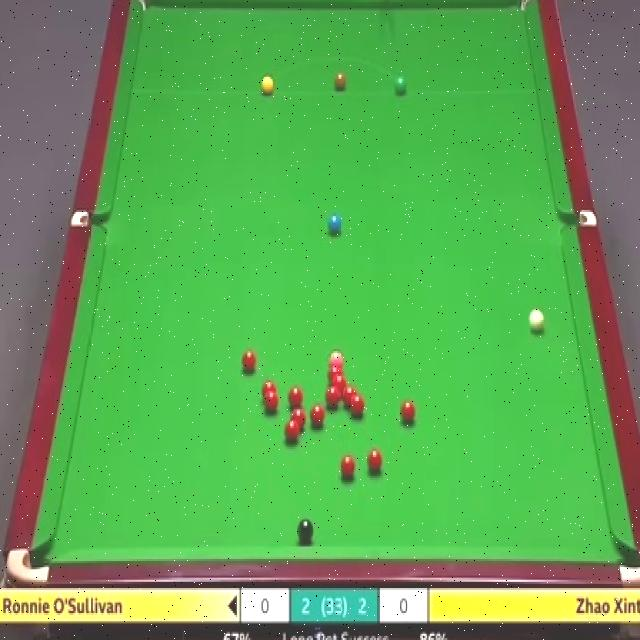black-ball: (296, 516, 314, 540)
blue-ball: (327, 215, 342, 233)
brown-ball: (335, 72, 346, 91)
green-ball: (393, 73, 408, 96)
pink-ball: (328, 351, 346, 366)
red-ball: (399, 396, 416, 424), (241, 349, 256, 374), (348, 393, 365, 415), (286, 417, 302, 440), (311, 402, 326, 426), (341, 456, 355, 481), (325, 386, 340, 409), (368, 452, 383, 474), (288, 386, 304, 406), (330, 374, 346, 393), (266, 390, 279, 413), (342, 382, 356, 403), (292, 410, 306, 430), (261, 379, 274, 400), (326, 365, 342, 380)
white-ball: (528, 308, 546, 332)
yellow-ball: (261, 75, 274, 96)
